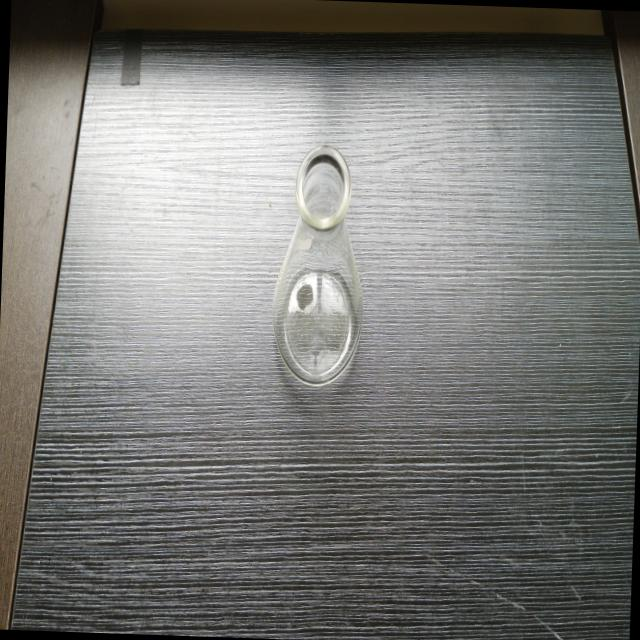erlenmeyer_flask: (262, 140, 377, 393)
